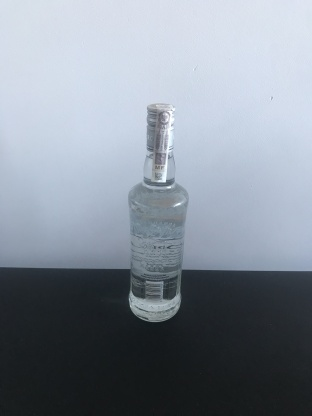nakretka: (143, 98, 178, 156)
